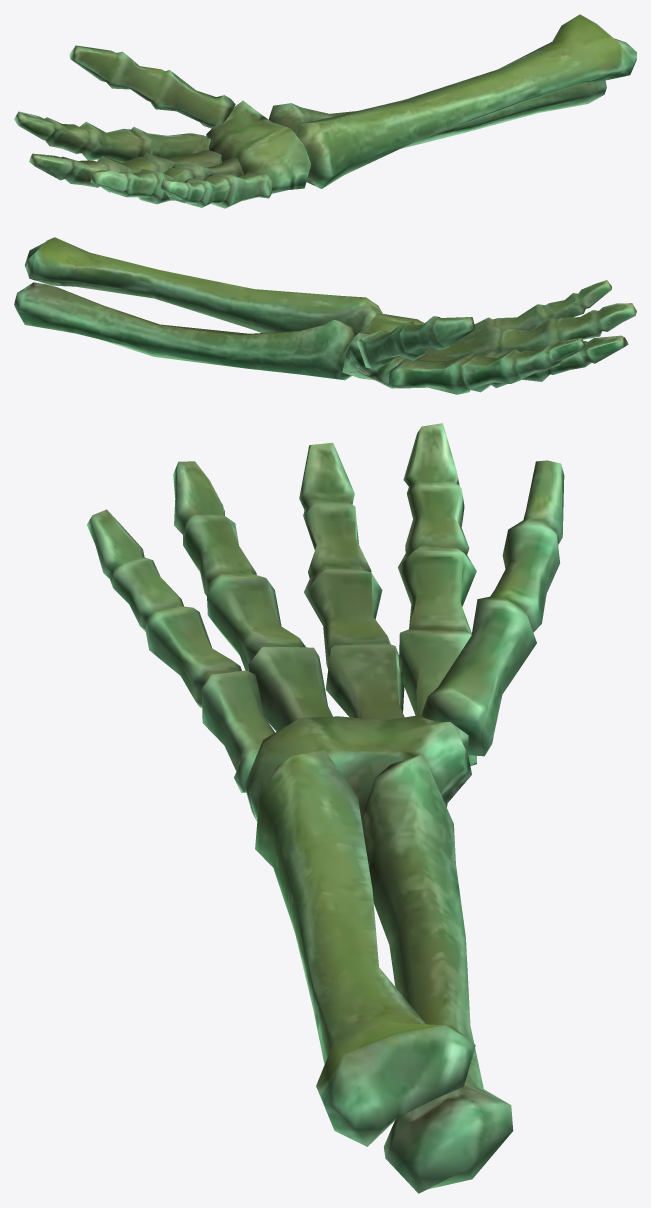
3 renders of one model, top to bottom at view 1: azimuth 30°, elevation 25°; view 2: azimuth 150°, elevation 25°; view 3: azimuth 270°, elevation 25°, orthographic. The views are drawn at different scales.
Parts seen in each view (by area): view 1: SM_U_MED_Skeleton_Human_lowerarm_r_LOD0; view 2: SM_U_MED_Skeleton_Human_lowerarm_r_LOD0; view 3: SM_U_MED_Skeleton_Human_lowerarm_r_LOD0.
Part boxes in pixels (x1,y1,x2,y2): SM_U_MED_Skeleton_Human_lowerarm_r_LOD0: (14,14,636,208); SM_U_MED_Skeleton_Human_lowerarm_r_LOD0: (14,237,636,394); SM_U_MED_Skeleton_Human_lowerarm_r_LOD0: (87,423,564,1193).
Size of the model in its own units: 0.5325 by 0.125 by 0.1875.
1 material, 1 textured.
